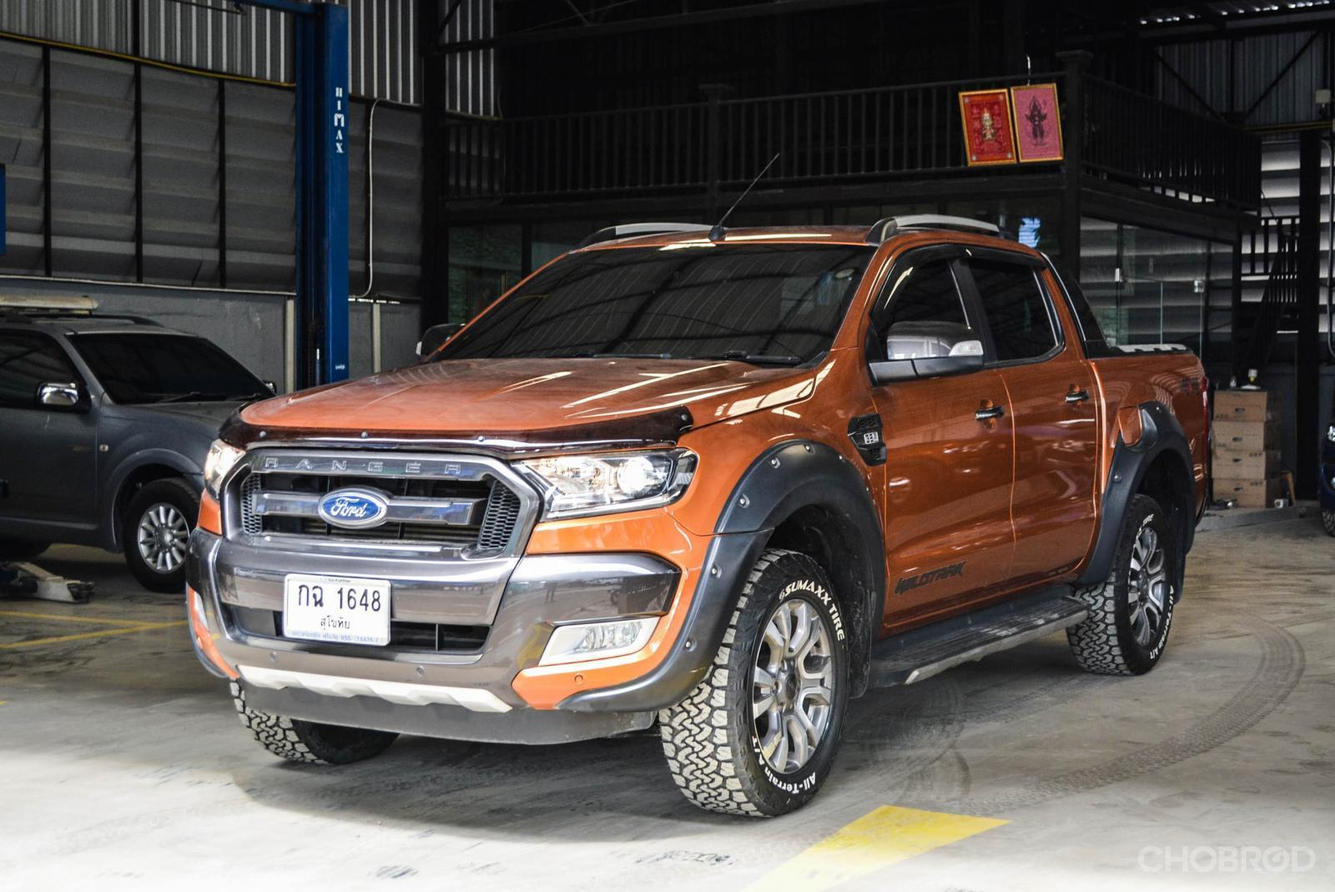license-plate: (279, 566, 397, 653)
